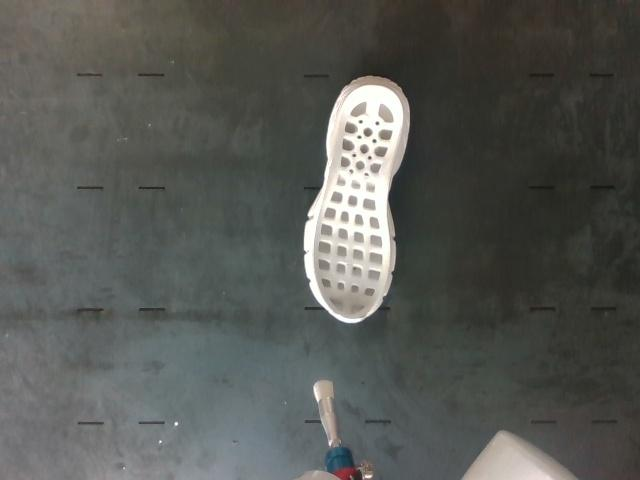shoes: (314, 84, 403, 321)
